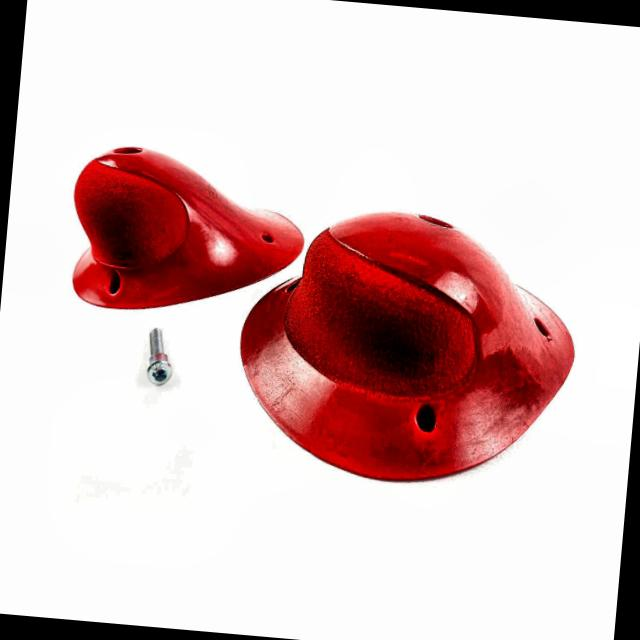Hold: (236, 192, 590, 496), (51, 140, 312, 317)
